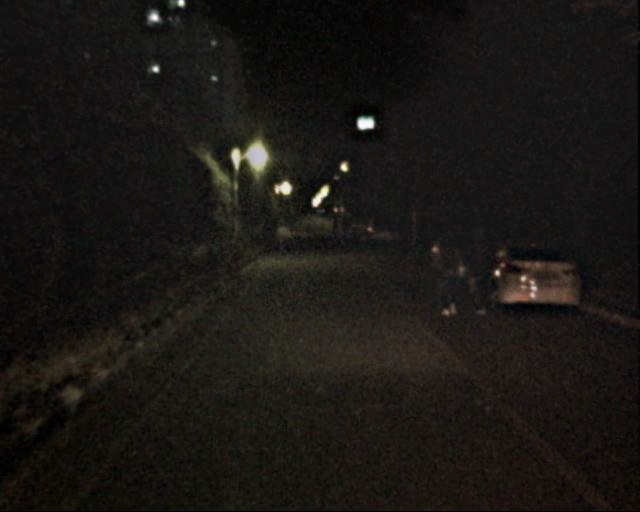person: (463, 225, 501, 318), (430, 231, 465, 317), (332, 219, 365, 243), (272, 215, 289, 257)
